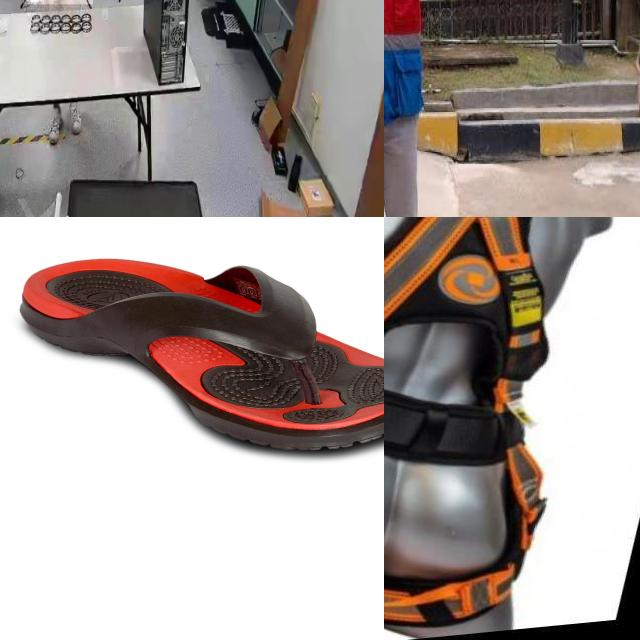Harness: (384, 217, 548, 626)
Sandals: (17, 256, 384, 452)
shoes: (67, 104, 86, 142), (47, 110, 65, 146)
vest: (384, 0, 427, 121)
